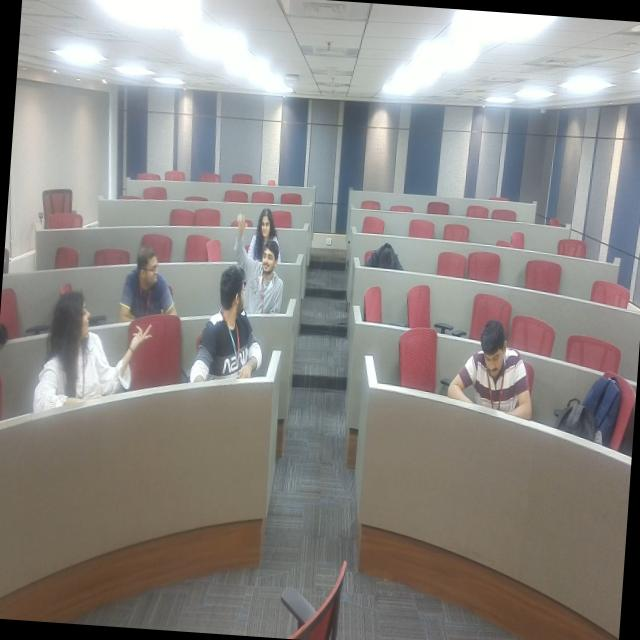non-cheating: (444, 309, 546, 445), (220, 206, 292, 312)
